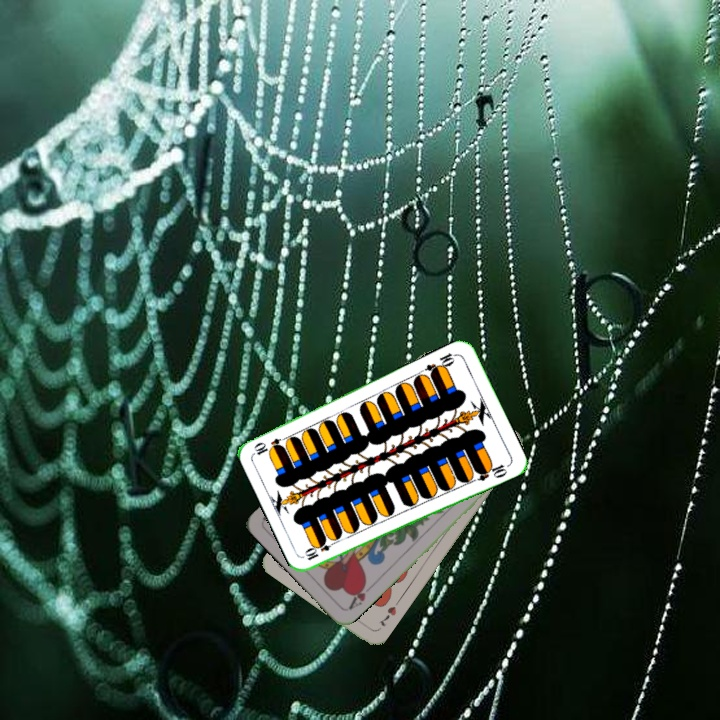E10: (421, 348, 459, 378), (301, 536, 340, 563)
H7: (375, 602, 399, 629)
HA: (345, 577, 376, 612)
